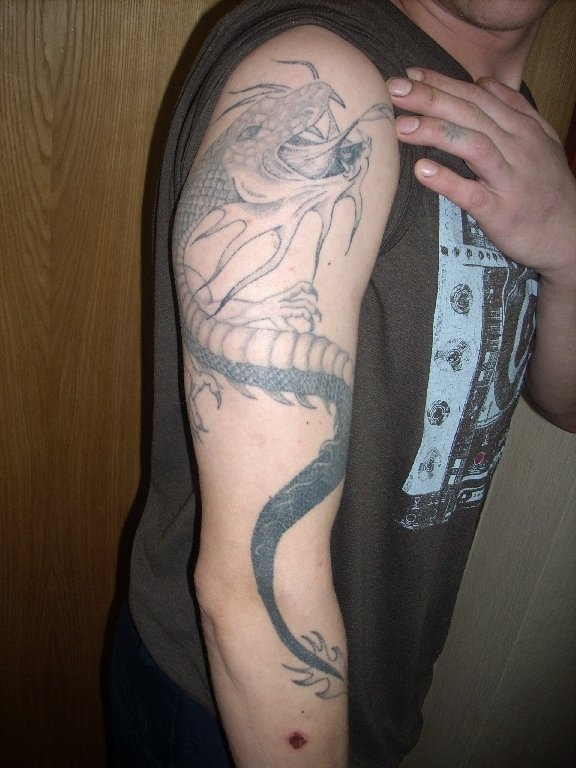tatu6_drakon: (137, 23, 449, 723)
